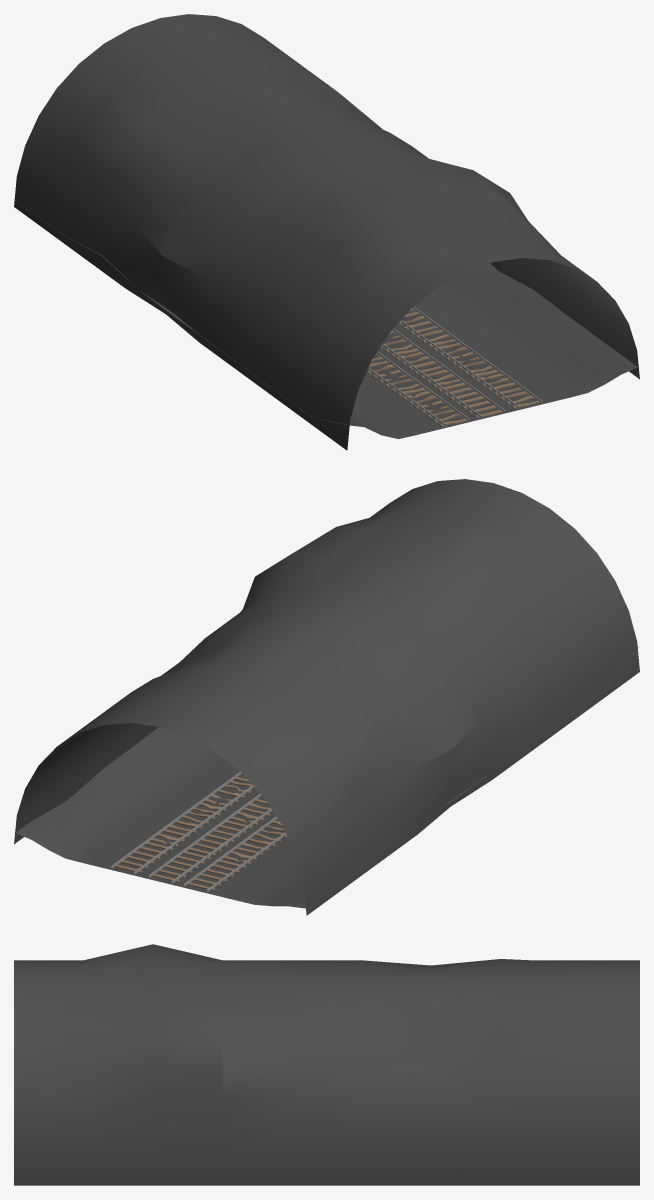
Rendered from Modulo_Padrao.fbx.
3 renders of one model, top to bottom at view 1: azimuth 30°, elevation 25°; view 2: azimuth 150°, elevation 25°; view 3: azimuth 270°, elevation 25°, orthographic. The views are drawn at different scales.
Parts seen in each view (by area): view 1: Plane.003; view 2: Plane.003; view 3: Plane.003.
Part boxes in pixels (<box>): Plane.003: <box>14,14,639,450</box>; Plane.003: <box>14,479,639,915</box>; Plane.003: <box>14,944,639,1185</box>.
Bounding box in the file's own units: 2412 × 1276 × 4761.
